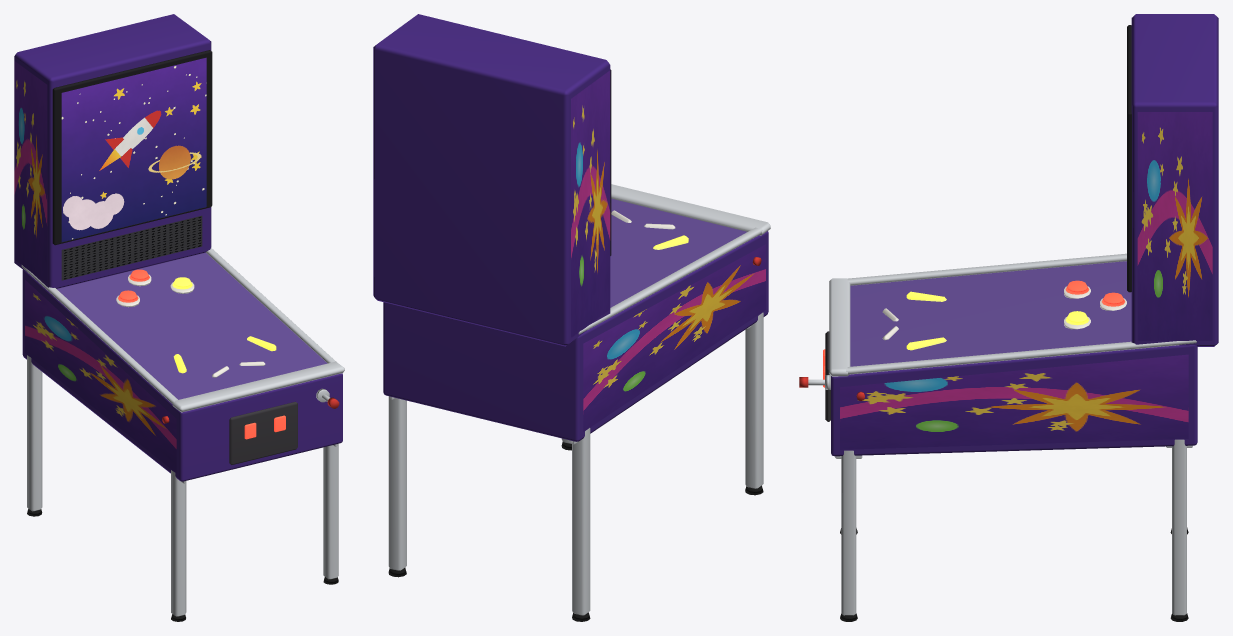
File: pinball_machine.glb
3 views of the same model, side by side, from view 1: azimuth 30°, elevation 25°; view 2: azimuth 150°, elevation 25°; view 3: azimuth 270°, elevation 25° (orthographic). The views are drawn at different scales.
Parts seen in each view (by area): view 1: model; view 2: model; view 3: model.
Boxes of the visible parts, bbox=[...] form: model: bbox=[14, 14, 344, 621]; model: bbox=[373, 14, 770, 621]; model: bbox=[799, 14, 1218, 621].
Bounding box in the file's own units: 0.756 × 1.9 × 1.4.
14 materials, 4 textured.
